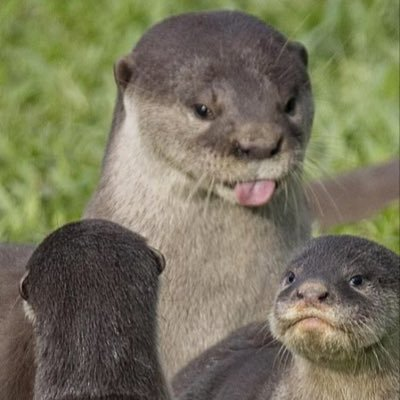otter: (104, 3, 324, 234), (6, 214, 185, 398), (259, 212, 398, 398)
